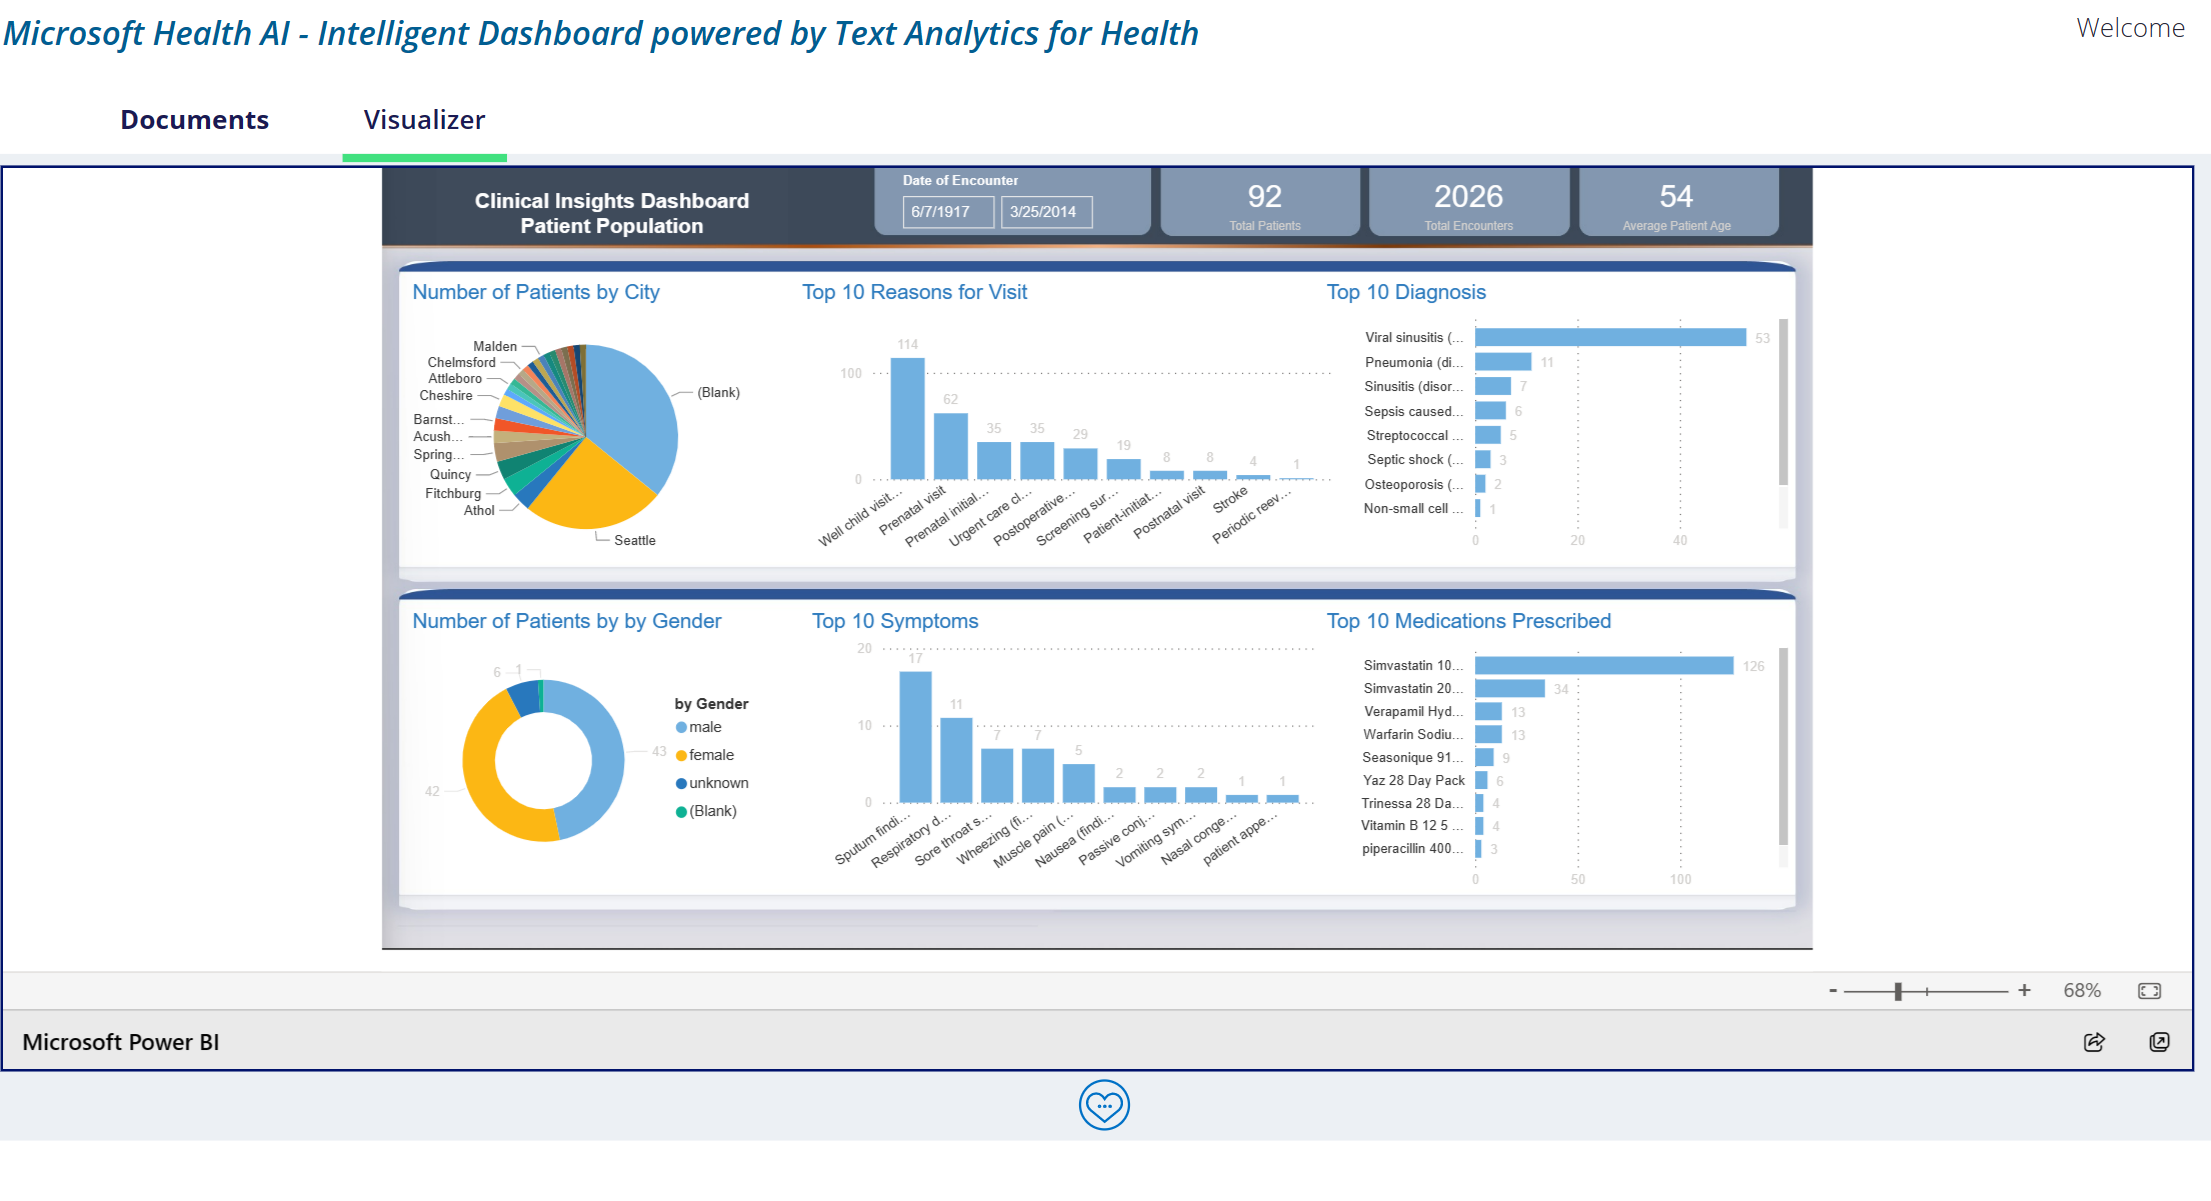

Layout of this report page (visuals, bound fields, positions):
{"tool":"powerbi","page":{"name":"Population Insights","canvas":[1280,720],"ordinal":0},"visuals":[{"type":"pieChart","title":"Number of Patients by City","fields":{"Y":["CountNonNull(Patient.id)"],"Category":["Patient.address.city"]},"box":[22,102,321,259],"z":0},{"type":"card","fields":{"Values":["CountNonNull(Patient.id)"]},"box":[705,0,171,64],"z":1000},{"type":"card","fields":{"Values":["Count(Encounter.id)"]},"box":[894,0,159,64],"z":2000},{"type":"donutChart","fields":{"Category":["Patient.gender"],"Y":["CountNonNull(Patient.id)"]},"box":[22,396,330,250],"z":3000},{"type":"card","fields":{"Values":["Avg(Patient.Round Down)"]},"box":[1073,0,172,64],"z":4000},{"type":"columnChart","title":"Top 10 Reasons for Visit","fields":{"Category":["Encounter.type.coding.display"],"Y":["CountNonNull(Encounter.id)"]},"box":[371,102,484,268],"z":5000},{"type":"columnChart","title":"Top 10 Symptoms","fields":{"Category":["Condition.code.coding.display"],"Y":["CountNonNull(Condition.id)"]},"box":[380,396,461,261],"z":6000},{"type":"clusteredBarChart","title":"Top 10 Medications Prescribed","fields":{"Category":["MedicationRequest.medication.CodeableConcept.coding.display"],"Y":["CountNonNull(MedicationRequest.id)"]},"box":[841,396,423,269],"z":7000},{"type":"textbox","title":"clinical","box":[48,0,315,77],"z":8000},{"type":"clusteredBarChart","title":"Top 10 Diagnosis","fields":{"Category":["Condition.code.coding.display"],"Y":["CountNonNull(Condition.id)"]},"box":[841,102,423,260],"z":9000},{"type":"slicer","fields":{"Values":["Encounter.period.end"]},"box":[454,0,235,116],"z":10000}]}

Visuals, with their boxes on the page's 1280x720 design canvas (x1, y1, x2, y2). These are canvas units, not pixel positions in the 2211x1201 screenshot, which may show the page scaled, cropped or inside an application window:
"Number of Patients by City" pieChart: [22, 102, 343, 361]
card - CountNonNull(Patient.id): [705, 0, 876, 64]
card - Count(Encounter.id): [894, 0, 1053, 64]
donutChart - Patient.gender x CountNonNull(Patient.id): [22, 396, 352, 646]
card - Avg(Patient.Round Down): [1073, 0, 1245, 64]
"Top 10 Reasons for Visit" columnChart: [371, 102, 855, 370]
"Top 10 Symptoms" columnChart: [380, 396, 841, 657]
"Top 10 Medications Prescribed" clusteredBarChart: [841, 396, 1264, 665]
"clinical" textbox: [48, 0, 363, 77]
"Top 10 Diagnosis" clusteredBarChart: [841, 102, 1264, 362]
slicer - Encounter.period.end: [454, 0, 689, 116]
